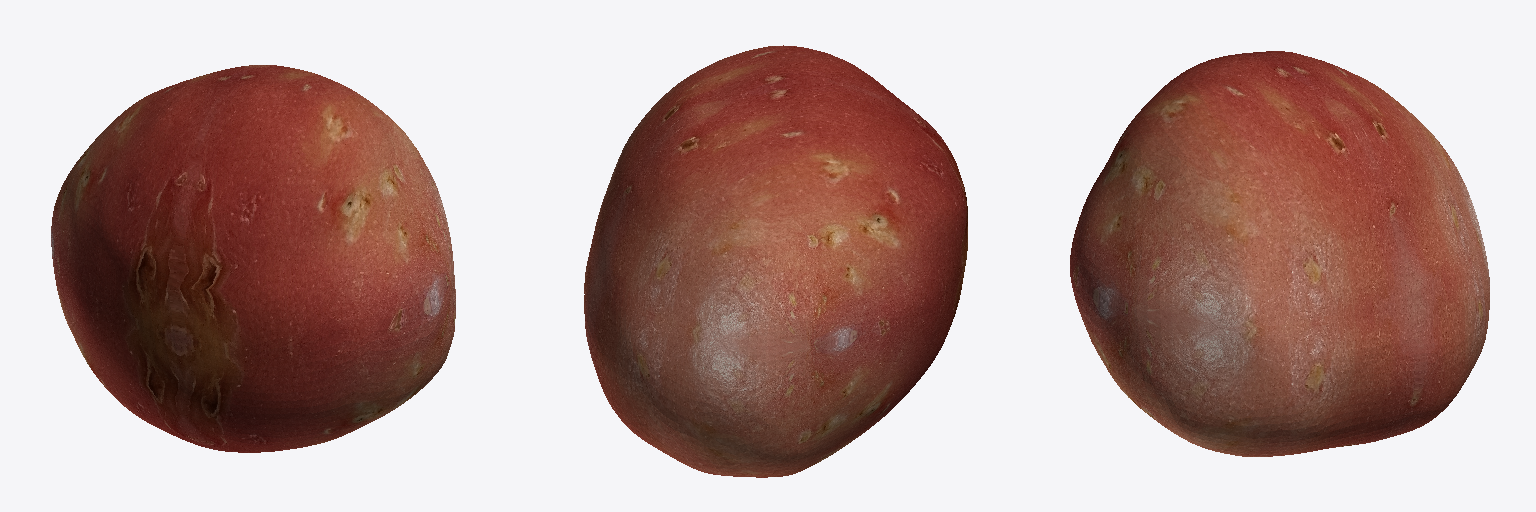
The picture shows the model from 3 angles: view 1: azimuth 30°, elevation 25°; view 2: azimuth 150°, elevation 25°; view 3: azimuth 270°, elevation 25°; orthographic projection.
Visible parts, largest first — view 1: Asteroid69, Asteroid21, Asteroid84, Asteroid7, Asteroid3, Asteroid61, Asteroid14, Asteroid15, Asteroid27, Asteroid86, Asteroid62, Asteroid13 (+28 smaller); view 2: Asteroid94, Asteroid47, Asteroid77, Asteroid53, Asteroid71, Asteroid65, Asteroid40, Asteroid46, Asteroid17, Asteroid9, Asteroid41, Asteroid88 (+28 smaller); view 3: Asteroid8, Asteroid56, Asteroid24, Asteroid52, Asteroid76, Asteroid4, Asteroid79, Asteroid16, Asteroid31, Asteroid28, Asteroid91, Asteroid39 (+27 smaller).
Boxes of the visible parts, box(x1,y1,x2,y2) form: Asteroid69: box(199, 334, 285, 419); Asteroid21: box(269, 329, 355, 413); Asteroid84: box(197, 258, 285, 349); Asteroid7: box(134, 316, 218, 413); Asteroid3: box(236, 107, 321, 196); Asteroid61: box(236, 158, 326, 268); Asteroid14: box(149, 198, 242, 289); Asteroid15: box(349, 254, 410, 349); Asteroid27: box(188, 150, 274, 247); Asteroid86: box(317, 161, 372, 269); Asteroid62: box(107, 164, 192, 257); Asteroid13: box(267, 224, 355, 318); Asteroid94: box(634, 296, 718, 399); Asteroid47: box(664, 126, 737, 226); Asteroid77: box(779, 141, 879, 230); Asteroid53: box(724, 110, 825, 189); Asteroid71: box(671, 212, 737, 326); Asteroid65: box(758, 208, 847, 296); Asteroid40: box(719, 250, 782, 346); Asteroid46: box(589, 263, 651, 371); Asteroid17: box(722, 168, 797, 260); Asteroid9: box(755, 345, 833, 421); Asteroid41: box(833, 194, 904, 291); Asteroid88: box(777, 278, 846, 355); Asteroid8: box(1258, 285, 1361, 380); Asteroid56: box(1261, 191, 1359, 288); Asteroid24: box(1273, 116, 1368, 210); Asteroid52: box(1195, 263, 1265, 364); Asteroid76: box(1193, 179, 1274, 268); Asteroid4: box(1128, 257, 1197, 361); Asteroid79: box(1353, 210, 1432, 298); Asteroid16: box(1137, 111, 1229, 186); Asteroid31: box(1351, 293, 1430, 369); Asteroid28: box(1133, 179, 1202, 265); Asteroid91: box(1207, 359, 1289, 428); Asteroid39: box(1214, 100, 1283, 184).
Bounding box in the file's own units: 4.39 × 4.57 × 4.71.
Materials: 1 (1 with a texture image).